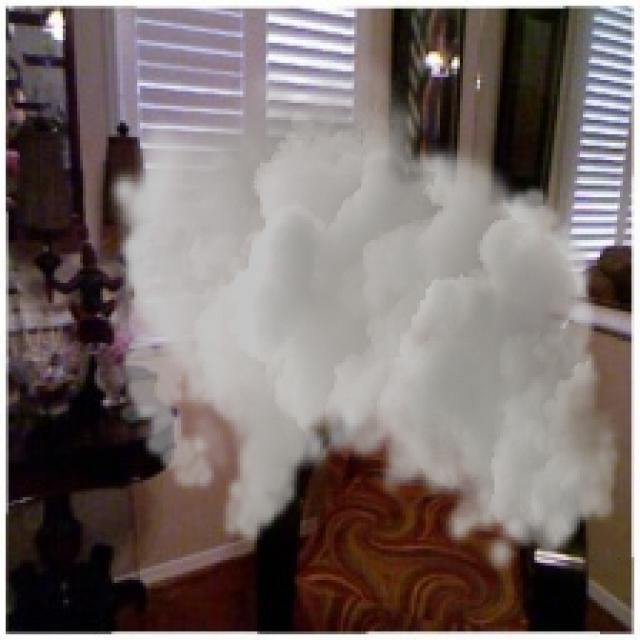Smoke: (106, 49, 623, 578)
